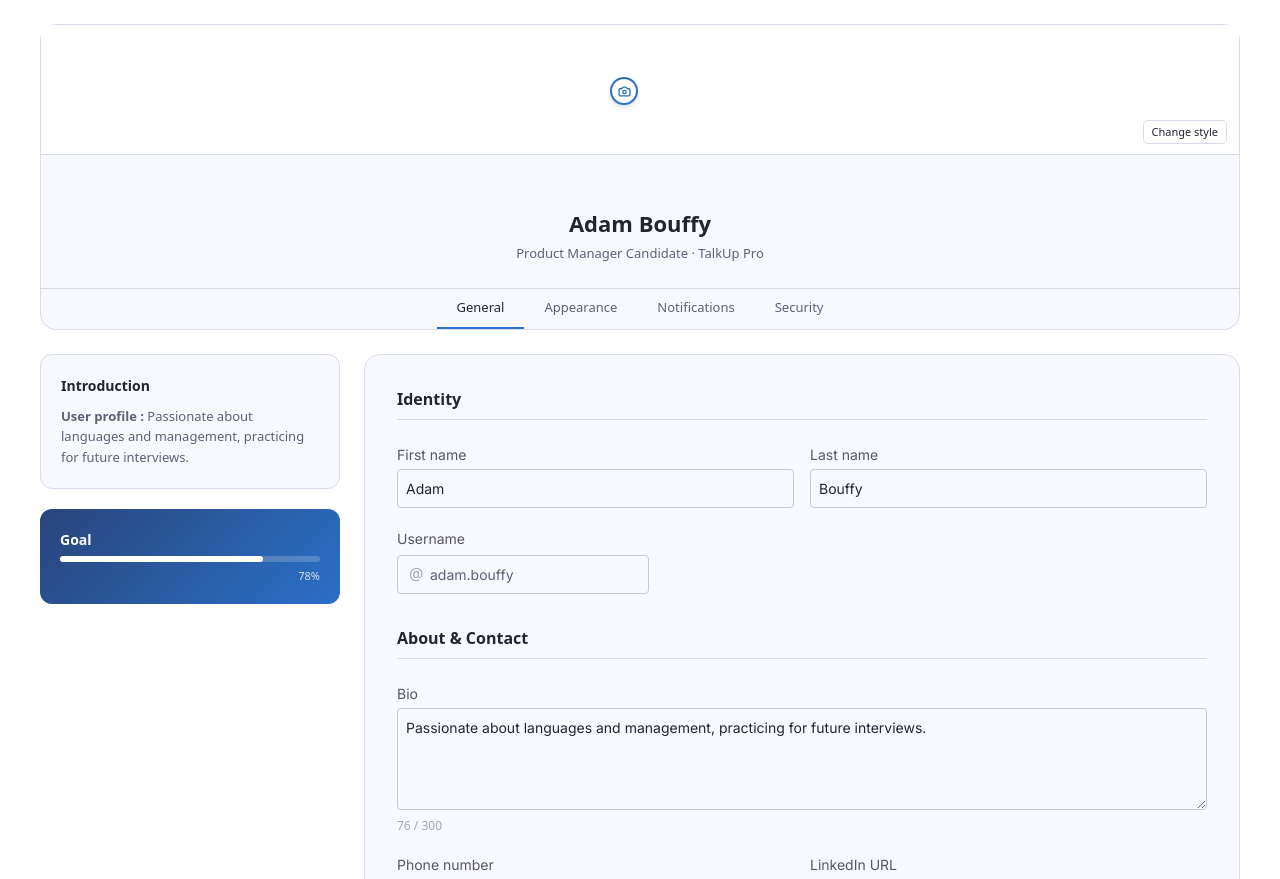
Test: Profile page › Avatar dropdown menu › opens the dropdown on camera button click
Click the button with test id "avatar-camera-button".
click(624, 91)  # box [610, 77, 638, 105]
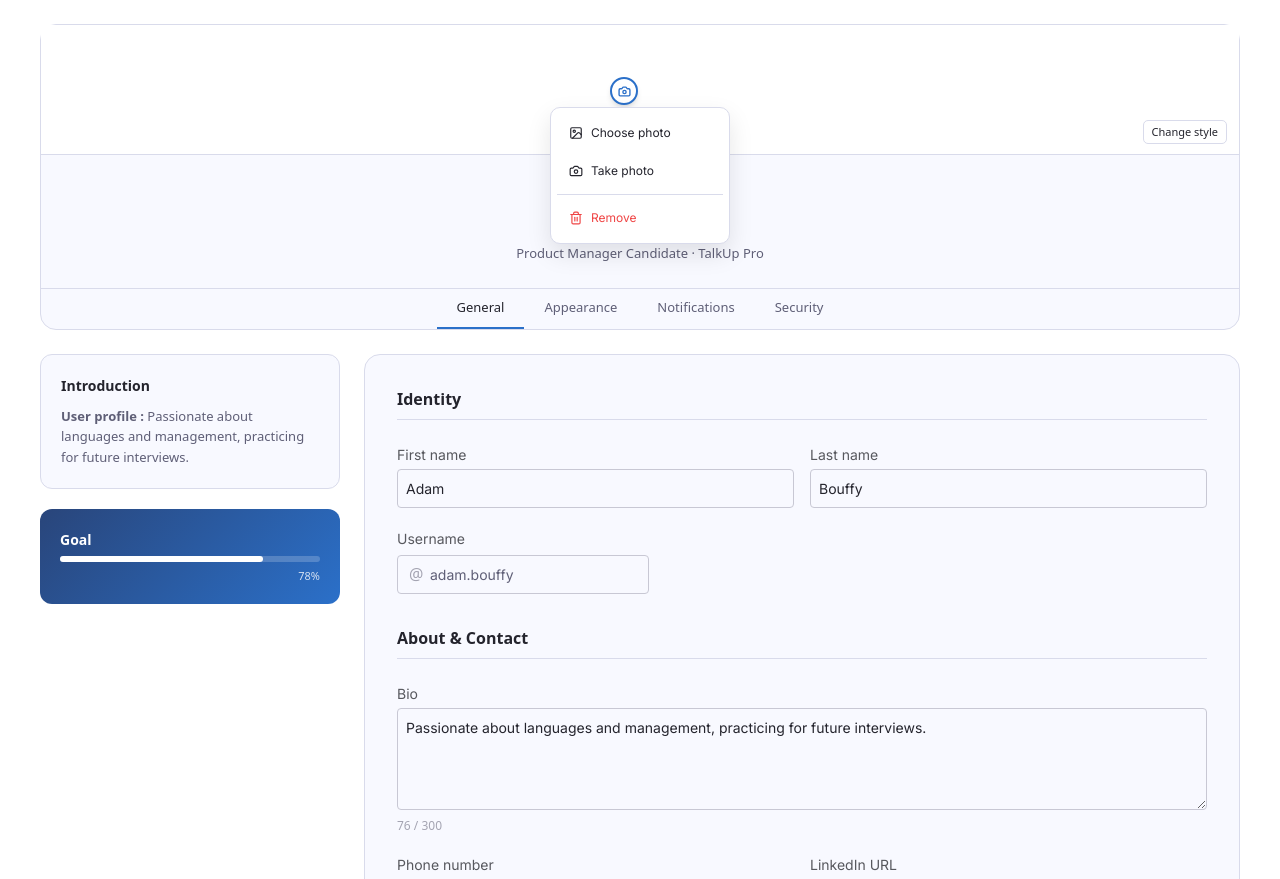
Expected: the element with test id "avatar-dropdown-menu" is shown, [550, 107, 730, 244]
